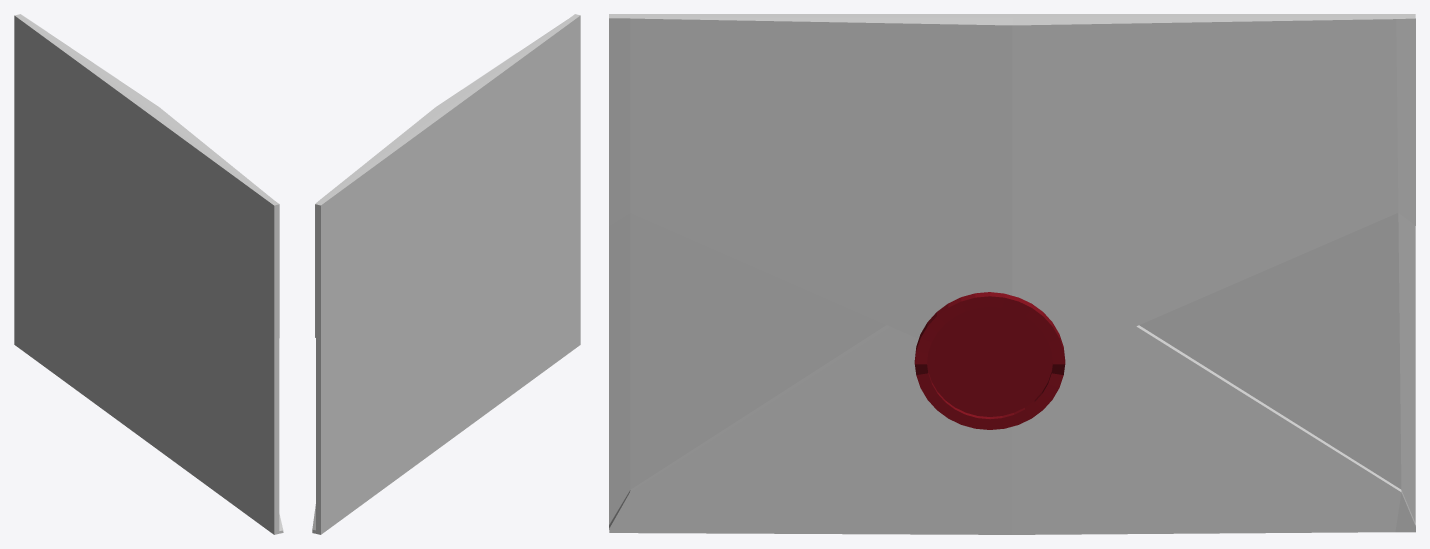
The model's file is carta.fbx.
3 views of the same model, side by side, from view 1: azimuth 30°, elevation 25°; view 2: azimuth 150°, elevation 25°; view 3: azimuth 270°, elevation 25° (orthographic). The views are drawn at different scales.
Visible parts, largest first — view 1: Cube; view 2: Cube; view 3: Cube, Circle.
Part boxes in pixels (bbox=[...]): Cube: bbox=[14, 14, 283, 534]; Cube: bbox=[312, 14, 580, 534]; Cube: bbox=[609, 14, 1415, 534]; Circle: bbox=[914, 292, 1065, 429].
Size of the model in its own units: 7.33 by 117 by 167.
